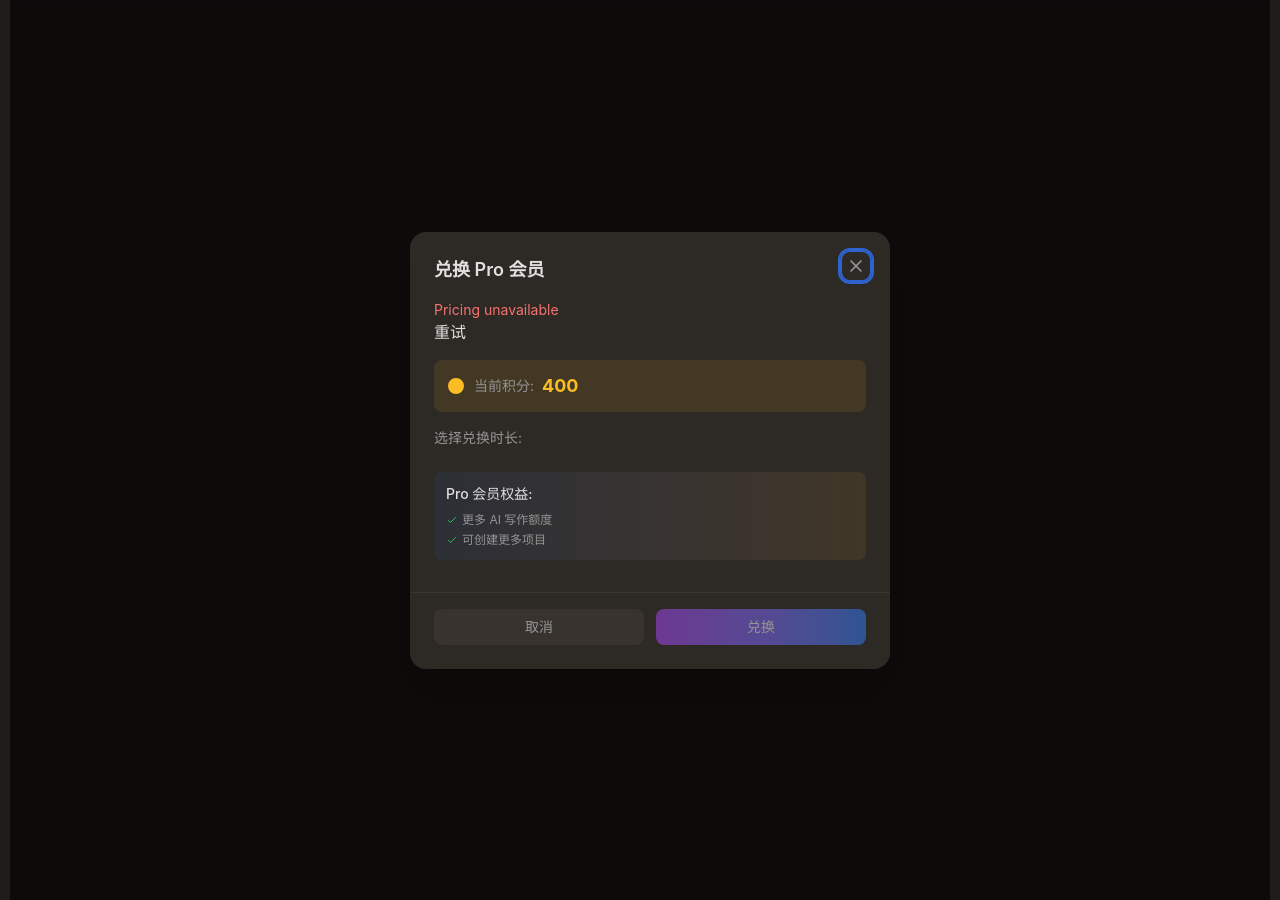
Test: RedeemProModal › shows a config failure and retries without inventing default prices
This screenshot has width=1280, height=900.
Expected: the message reads "Pricing unavailable", [434,300,559,318]
Expected: the text "100 积分" is not shown
Click the button "重试" at coordinates (450, 332), box [434,320,466,344]
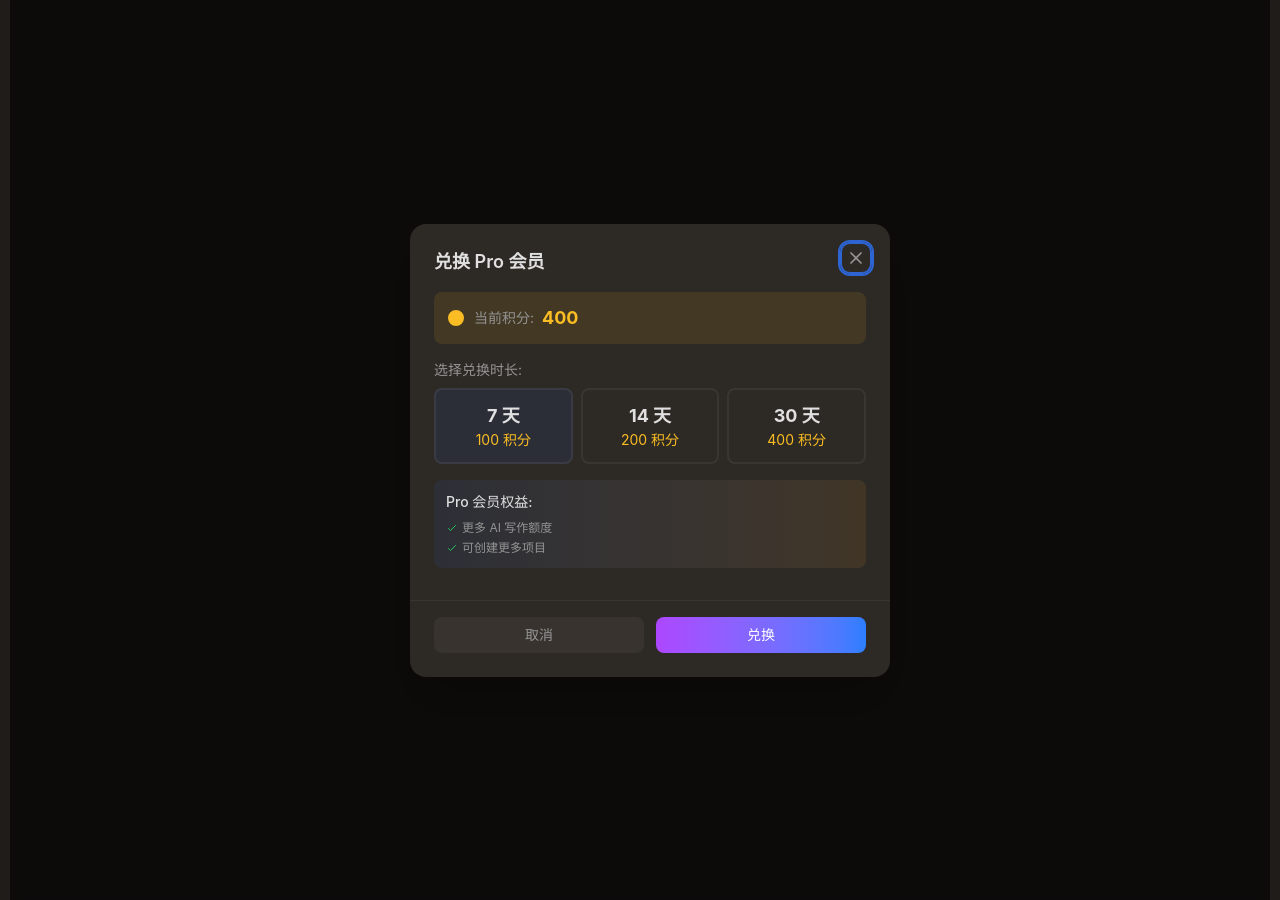
Expected: the text "100 积分" is shown, [476,430,531,448]
